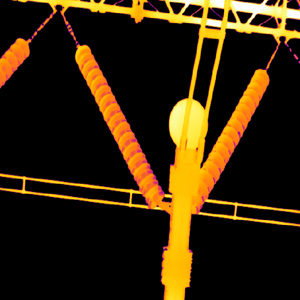insulator: (75, 41, 159, 210), (187, 66, 270, 215), (0, 35, 30, 81)
